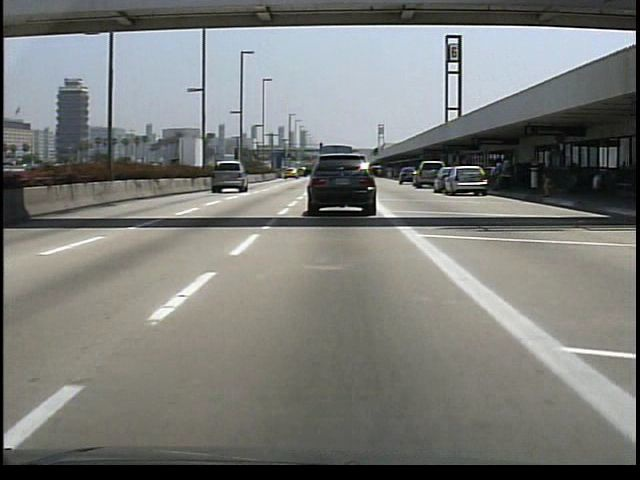person: (498, 153, 519, 193), (487, 159, 502, 193)
